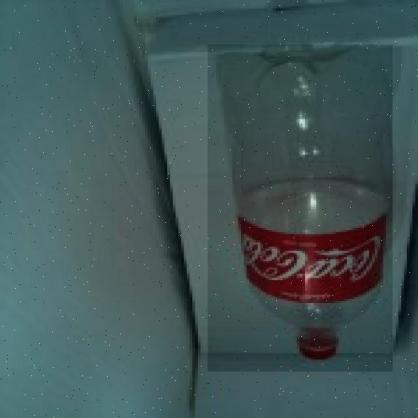bottle: (207, 44, 392, 372)
cap: (293, 340, 340, 362)
label: (226, 213, 385, 297)
